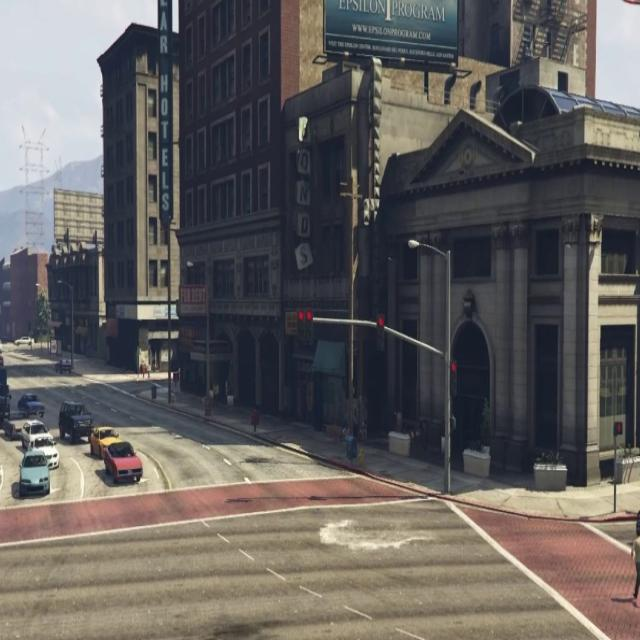Red-Signal: (286, 294, 324, 362), (367, 294, 396, 361), (443, 345, 465, 392)
